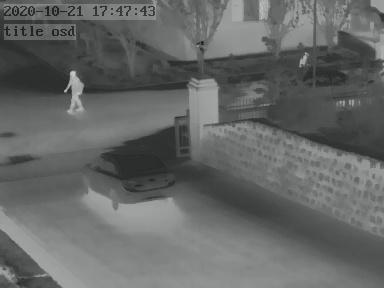person: (64, 68, 84, 112)
vehicle: (82, 140, 177, 208)
